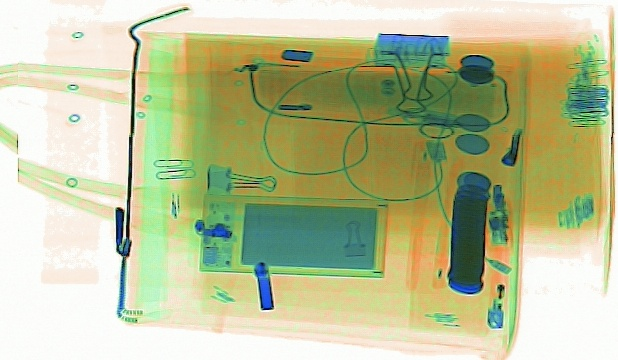lighter: (484, 246, 511, 328)
